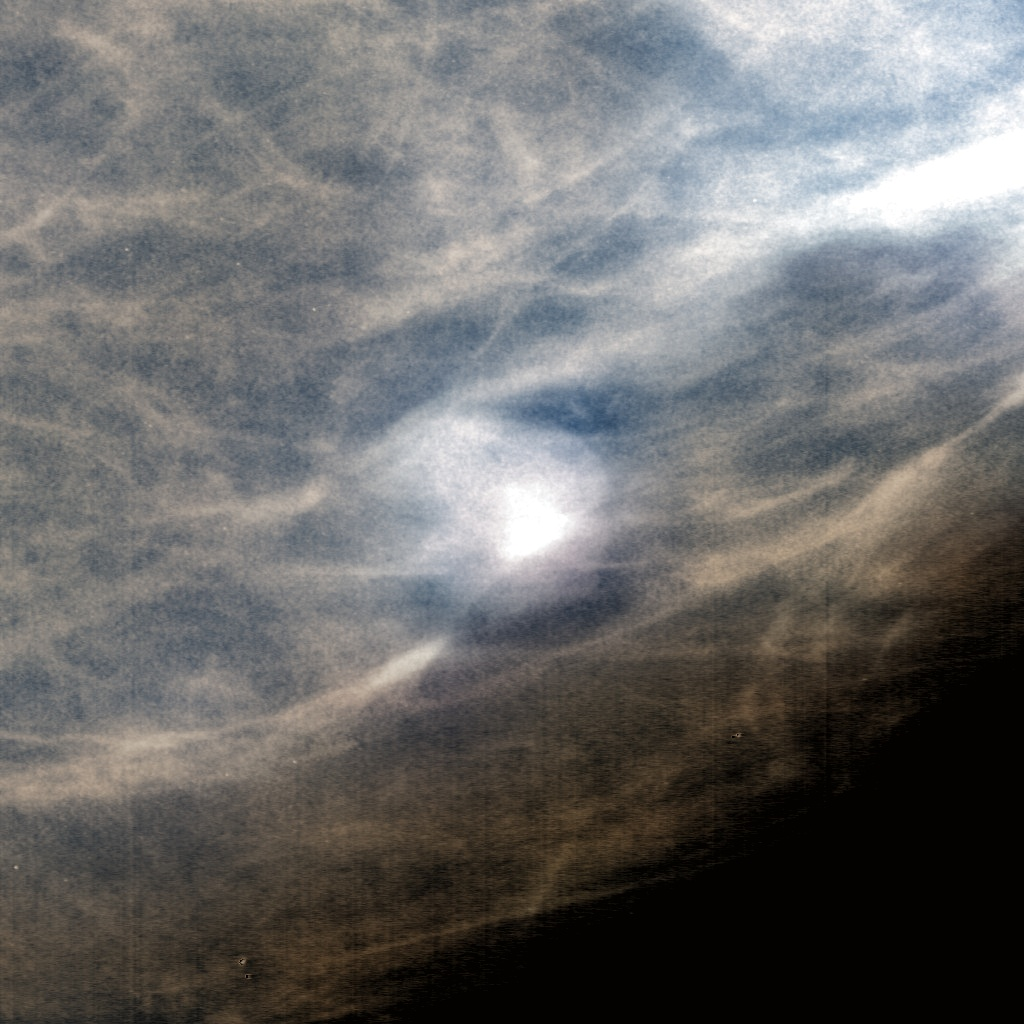tumor: (381, 399, 643, 625)
